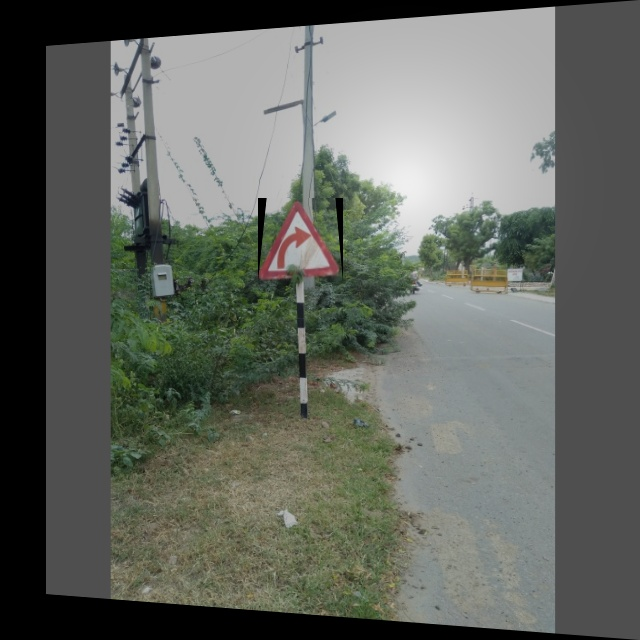Right_Hand_Curve: (258, 198, 343, 282)
